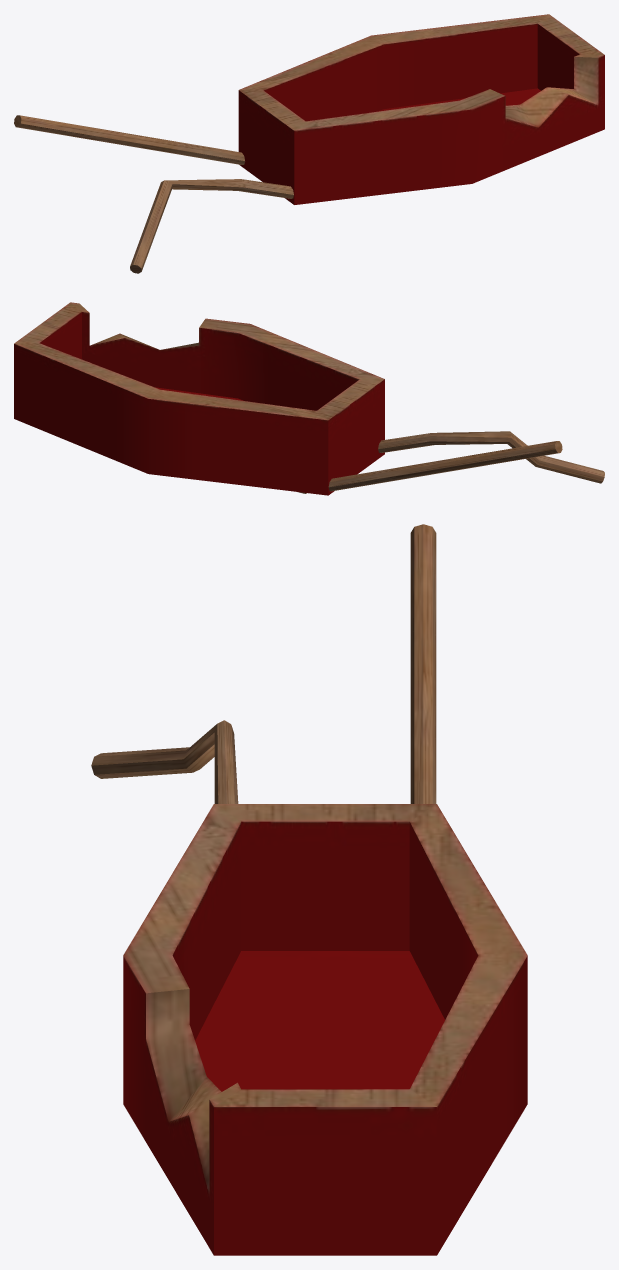
The model's file is sled2.gltf.
The picture shows the model from 3 angles, top to bottom: view 1: azimuth 30°, elevation 25°; view 2: azimuth 150°, elevation 25°; view 3: azimuth 270°, elevation 25°; orthographic projection. The views are drawn at different scales.
Visible parts, largest first — view 1: sled.006, pCylinder2.006, pCylinder1.006; view 2: sled.006, pCylinder2.006, pCylinder1.006; view 3: sled.006, pCylinder2.006, pCylinder1.006.
Boxes of the visible parts, left/top/right/bottom form: sled.006: left=238, top=14, right=604, bottom=204; pCylinder2.006: left=14, top=115, right=244, bottom=164; pCylinder1.006: left=130, top=179, right=293, bottom=273; sled.006: left=14, top=302, right=384, bottom=495; pCylinder2.006: left=328, top=441, right=562, bottom=491; pCylinder1.006: left=378, top=431, right=604, bottom=483; sled.006: left=123, top=804, right=527, bottom=1255; pCylinder2.006: left=410, top=524, right=436, bottom=803; pCylinder1.006: left=91, top=720, right=238, bottom=803.
Size of the model in its own units: 0.1427 by 0.0288 by 0.0502.
Materials: 4 (4 with a texture image).
